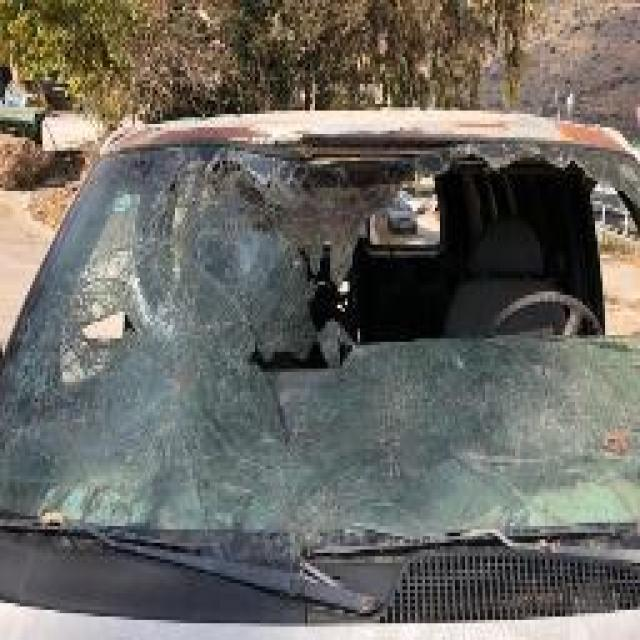Windshield: (8, 151, 640, 563)
